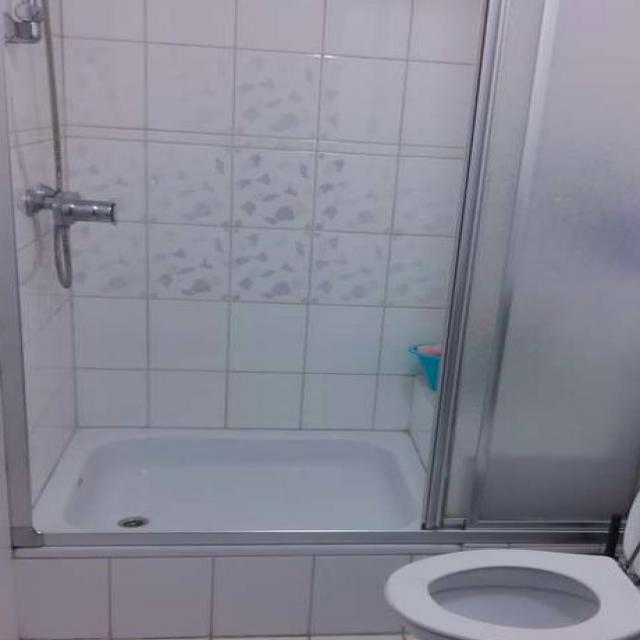douche: (0, 0, 640, 582)
toilet: (389, 489, 640, 640)
